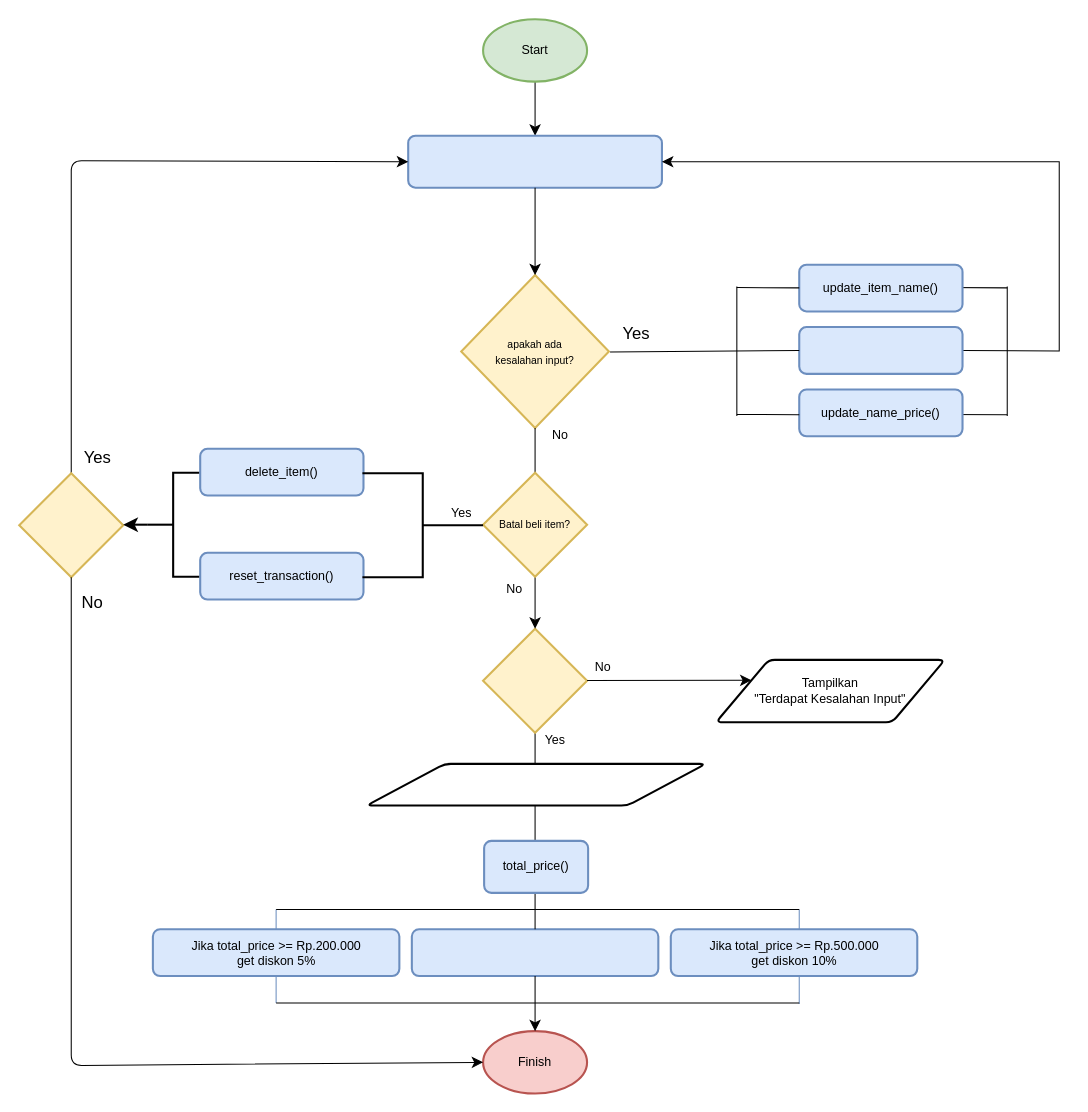
Some shapes in this 1088 by 1112 pixel diagram are drawn without their labels. The centre of each missing label's shape, as x and y in pixels:
add_item() nama_item, jumlah_item, harga_per_item: the point at 534,161
check_order() sesuai belum?: the point at 535,680
Jika total_price >= Rp.300.000 get diskon 8%: the point at 534,952
Lanjut belanja?: the point at 71,525
Tampilkan "Pemesanan Sudah Benar": the point at 535,784
update_item_qty(): the point at 880,350
